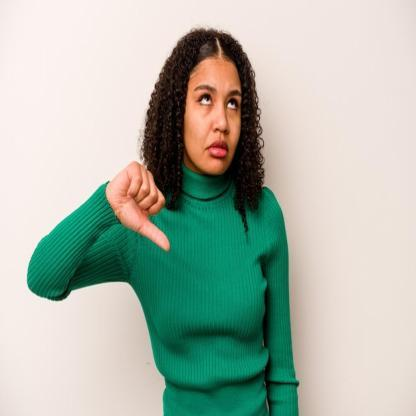thumb_down: (105, 158, 173, 256)
